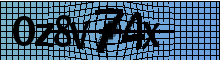0: (12, 15, 35, 47)
4: (120, 10, 145, 52)
7: (92, 7, 123, 53)
8: (53, 15, 72, 47)
v: (69, 21, 91, 49)
x: (141, 20, 160, 52)
z: (35, 22, 54, 49)
